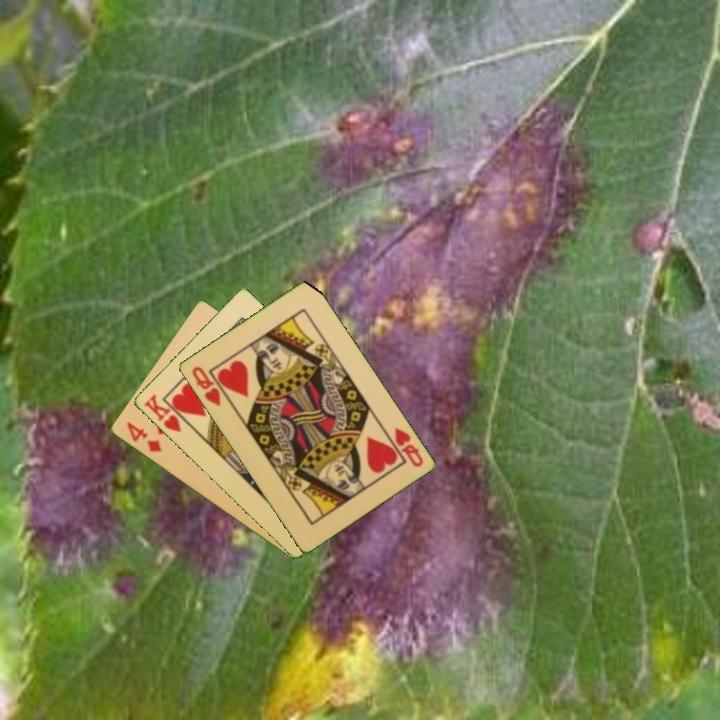4d: (123, 418, 165, 455)
Kh: (140, 390, 193, 436)
Qh: (390, 424, 426, 470), (188, 362, 223, 409)
